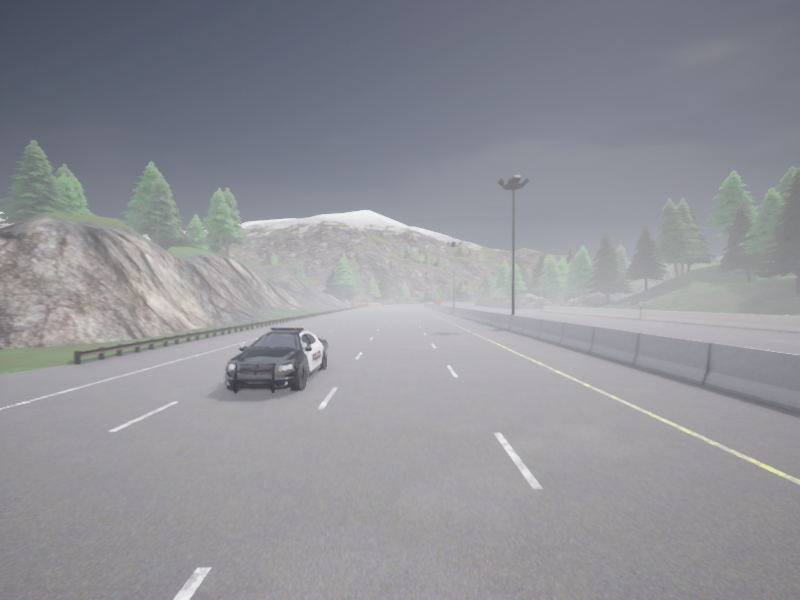vehicle: (225, 327, 327, 393), (436, 299, 442, 304)
